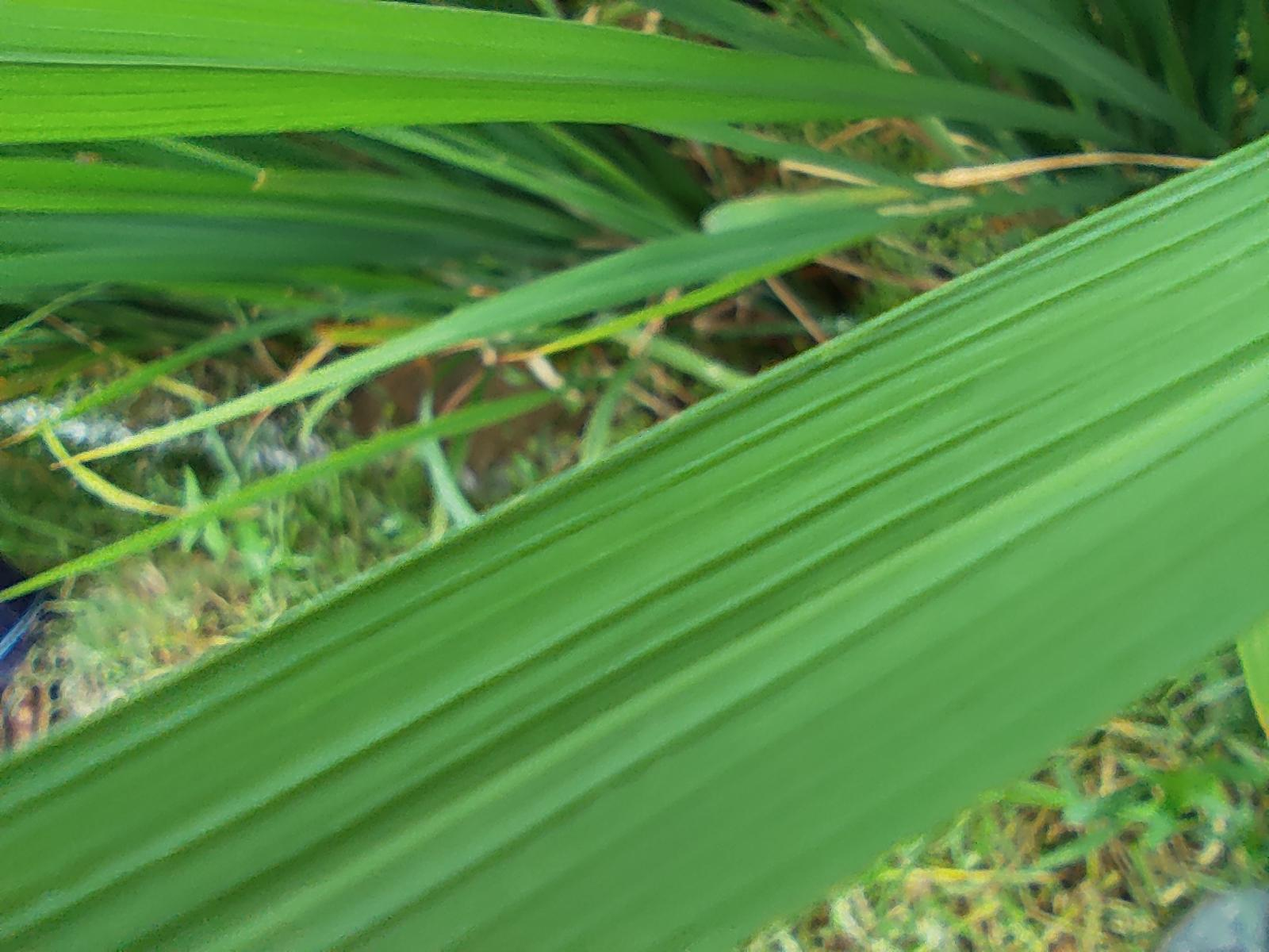Healthy: (1, 0, 1087, 951)
